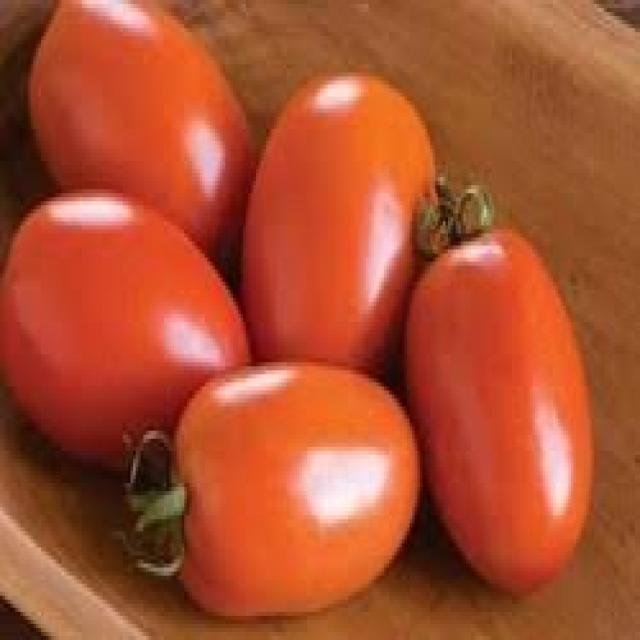Fresh_tomato: (411, 202, 587, 578), (0, 200, 236, 444), (173, 376, 417, 610), (265, 46, 427, 371), (35, 1, 246, 210)
